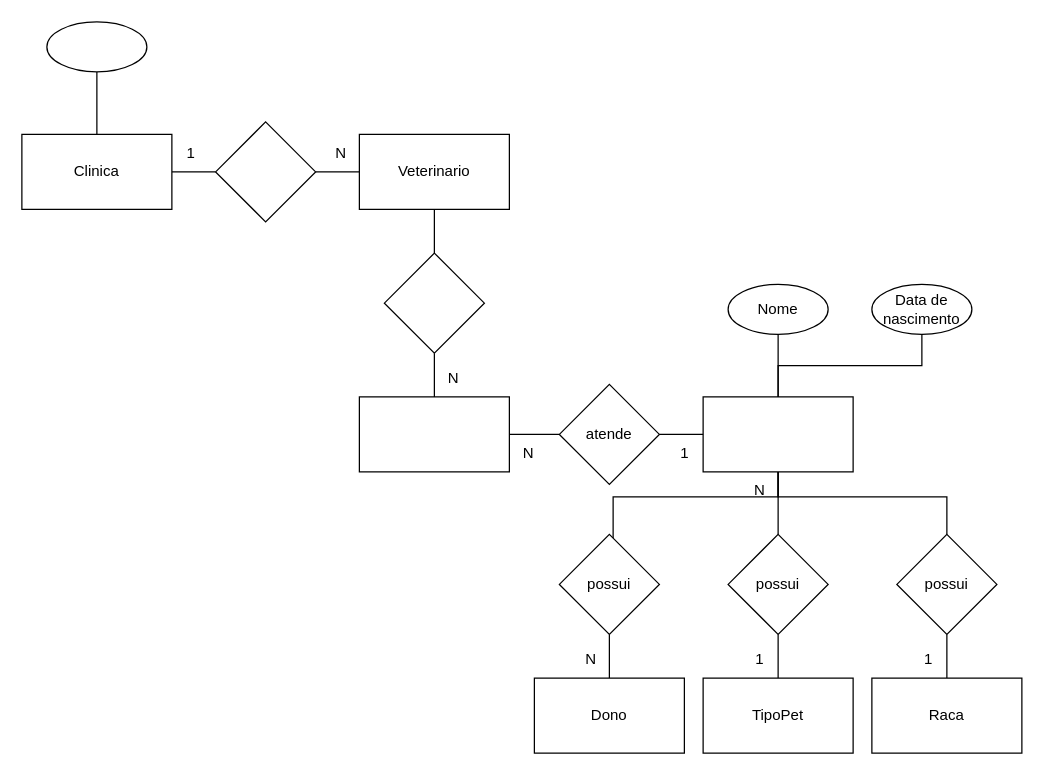
Image size: 1044x775. Some labels were removed from this diagram. The centre of each missing label's shape, as x and y in pixels:
"Atendimento" goes at (433,434).
"cadastra" goes at (265,171).
"Endereço" goes at (96,46).
"faz" goes at (433,302).
"Pet" goes at (777,434).
